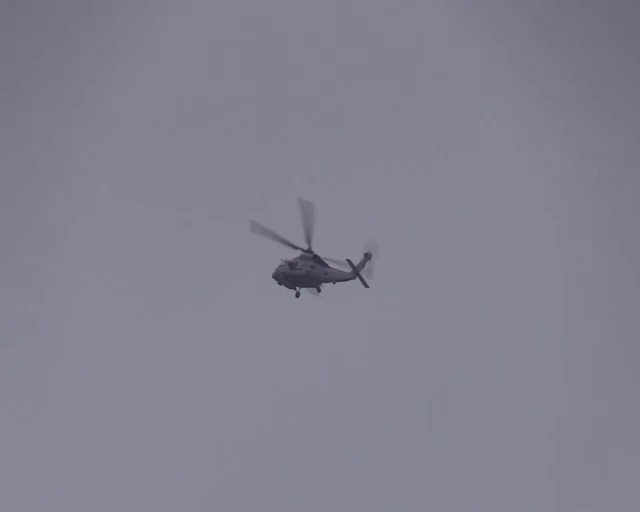HELICOPTER: (249, 196, 373, 299)
